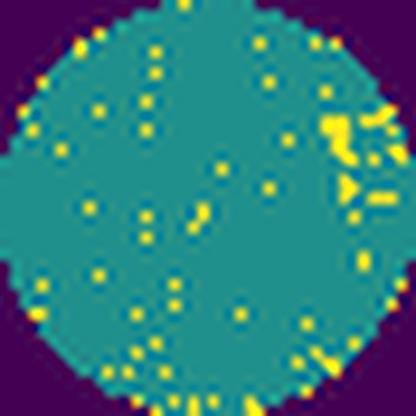Loc: (322, 115, 360, 163)
